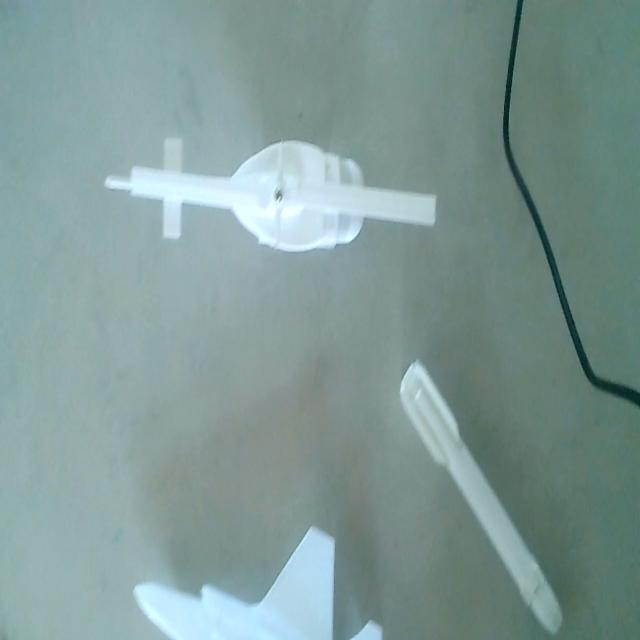Helicopter: (103, 121, 441, 272)
Rocket: (398, 350, 563, 636)
